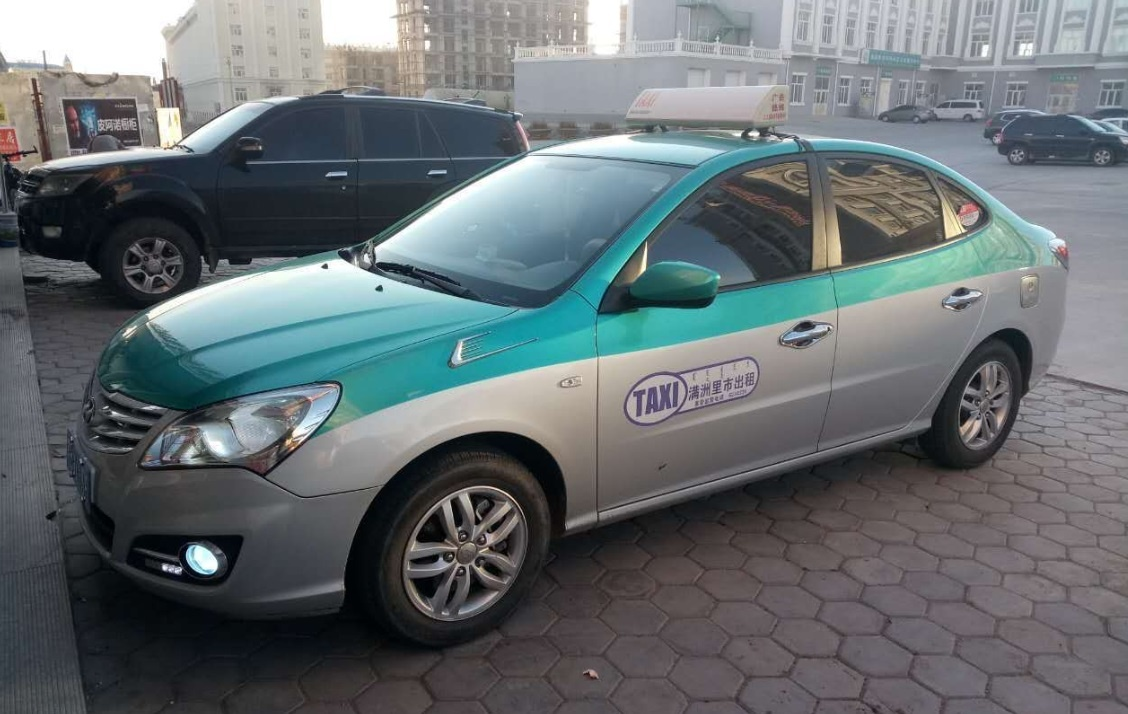taxi: (55, 110, 1060, 613)
